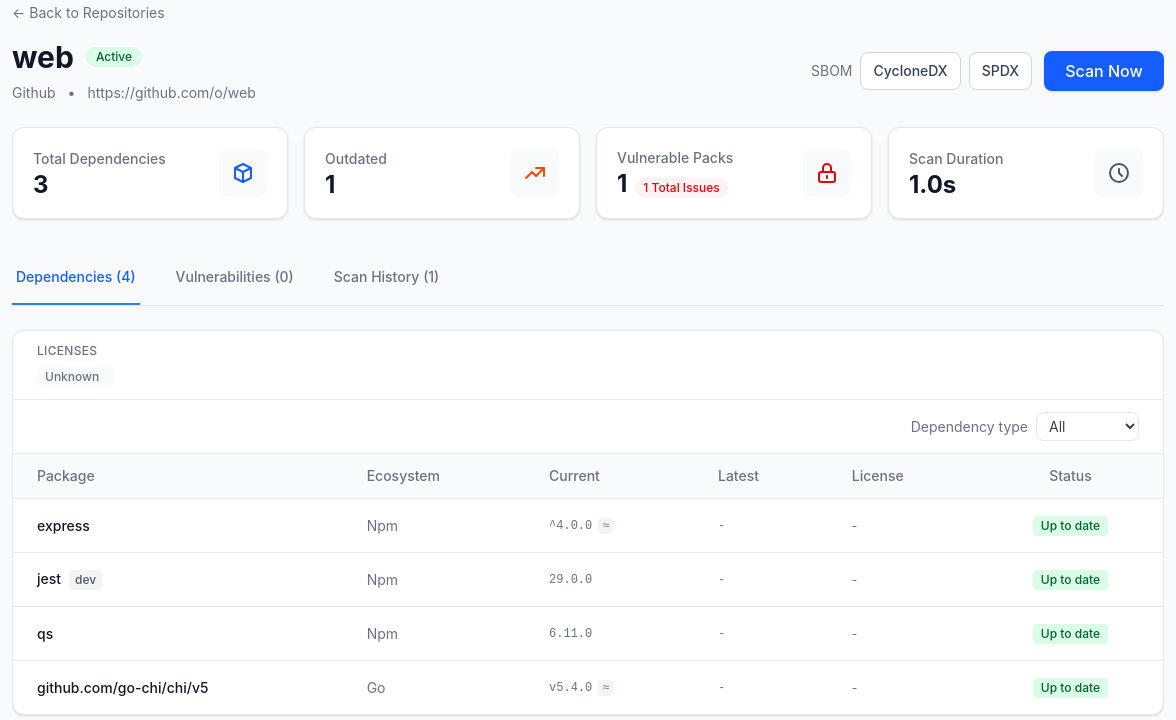
it: RepoDetail › dependency table › filters direct and transitive dependencies
Expected: the text "qs" is shown, [13,606,343,660]
Select "Direct" in the dropdown labelled "Dependency type" at (1088, 426), box [1036,412,1139,441]
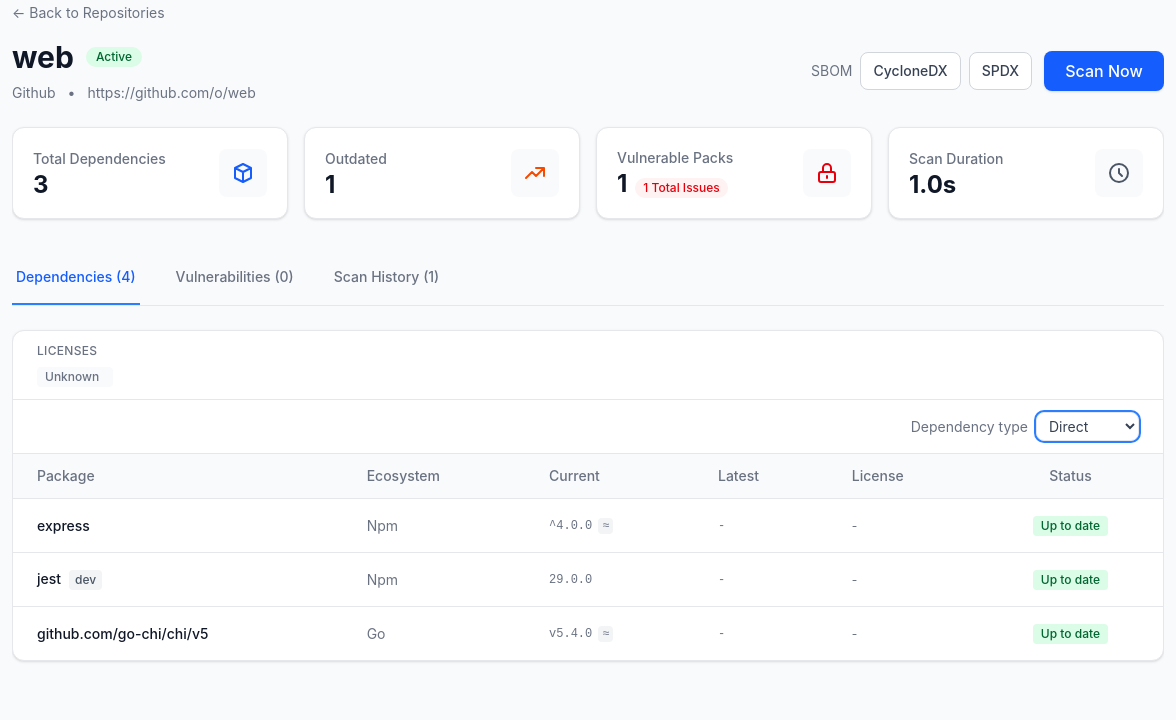
Expected: the text "express" is shown, [13,498,343,552]
Result: the text "qs" is gone
Select "Transitive" in the dropdown labelled "Dependency type" at (1088, 426), box [1036,412,1139,441]
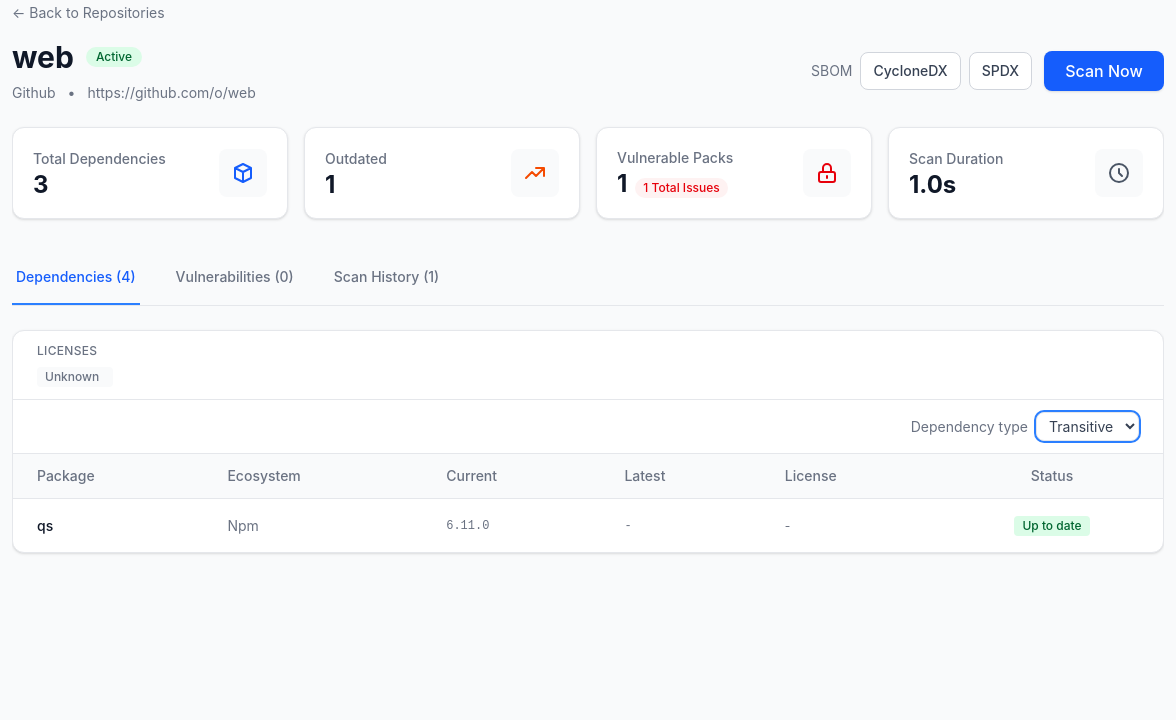
Result: the text "qs" is shown at [13,498,203,552]
Result: the text "express" is gone
Select "All" in the dropdown labelled "Dependency type" at (1088, 426), box [1036,412,1139,441]
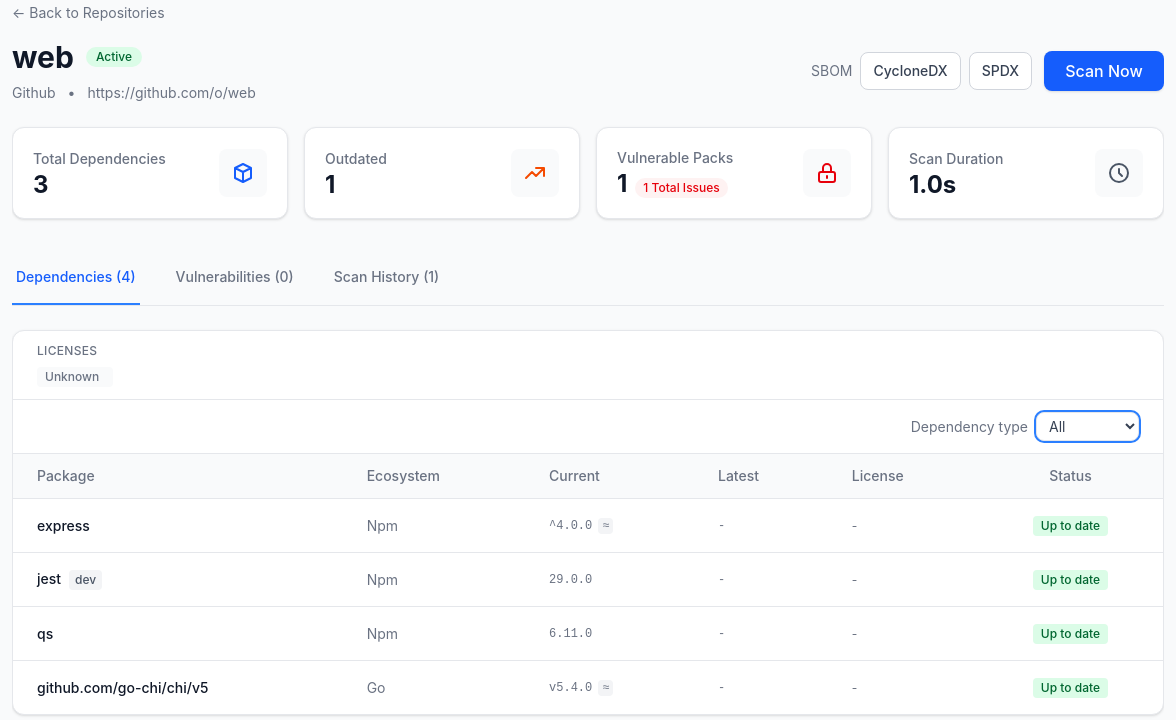
Result: the text "qs" is shown at [13,606,343,660]
Result: the text "express" is shown at [13,498,343,552]
